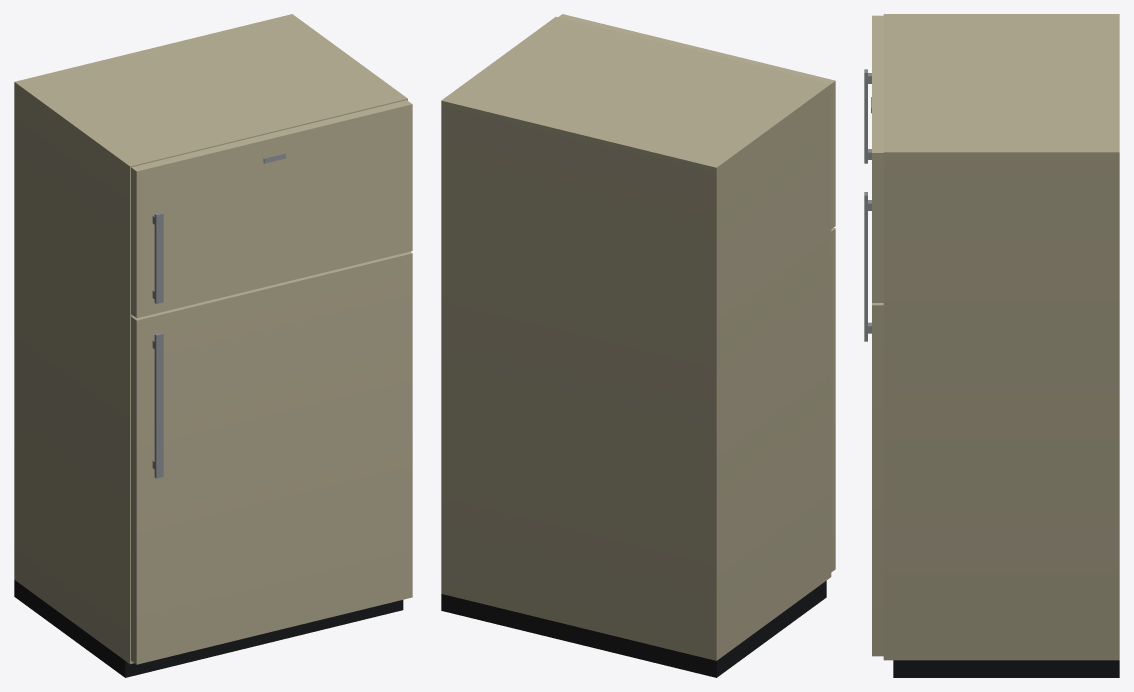
The model's file is appliance.fridge.cream.glb.
The picture shows the model from 3 angles, left to right: view 1: azimuth 30°, elevation 25°; view 2: azimuth 150°, elevation 25°; view 3: azimuth 270°, elevation 25°; orthographic projection. The views are drawn at different scales.
Parts seen in each view (by area): view 1: appliance_fridge_cream; view 2: appliance_fridge_cream; view 3: appliance_fridge_cream.
Boxes of the visible parts, <box> form: appliance_fridge_cream: <box>14,14,412,677</box>; appliance_fridge_cream: <box>441,14,835,677</box>; appliance_fridge_cream: <box>864,14,1119,677</box>.
Size of what is drawn, in the model's own units: 1.02 by 1.8 by 0.793.
